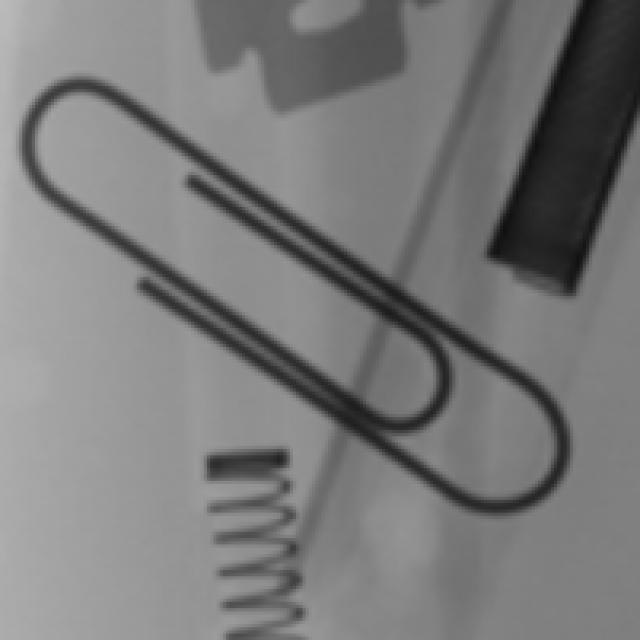GUN: (472, 1, 640, 329), (167, 1, 433, 125)
